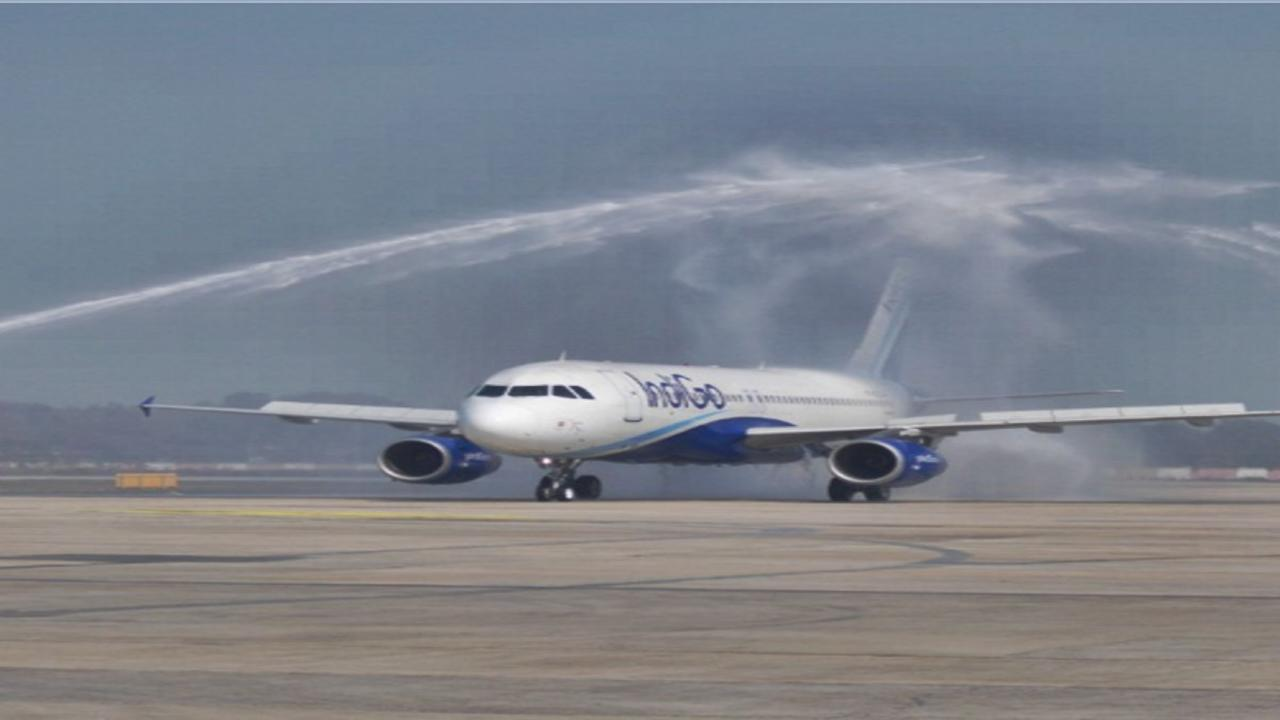Airplane: (100, 270, 1280, 520)
